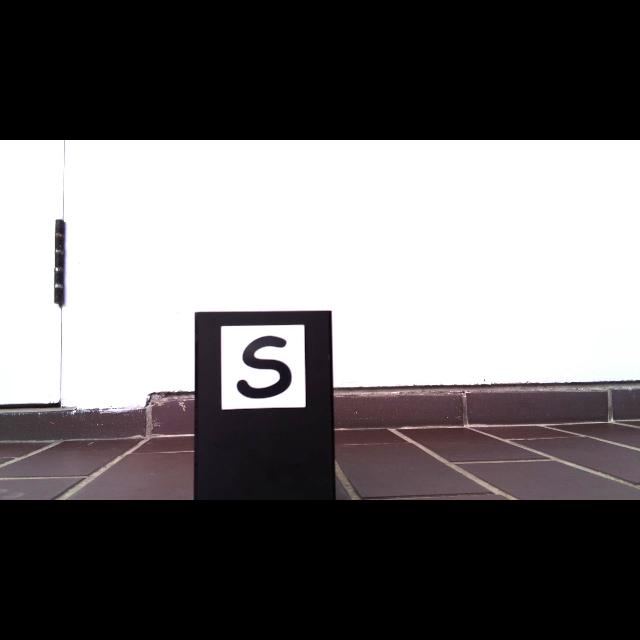S: (236, 336, 291, 399)
